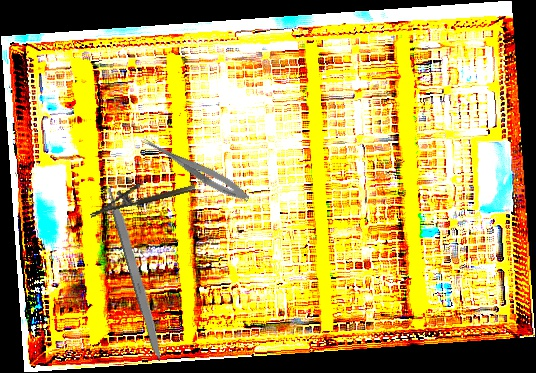Micro Scissor: (137, 133, 253, 206)
Needle Holder: (85, 170, 197, 218)
Scalpel Handle: (105, 185, 167, 363)
